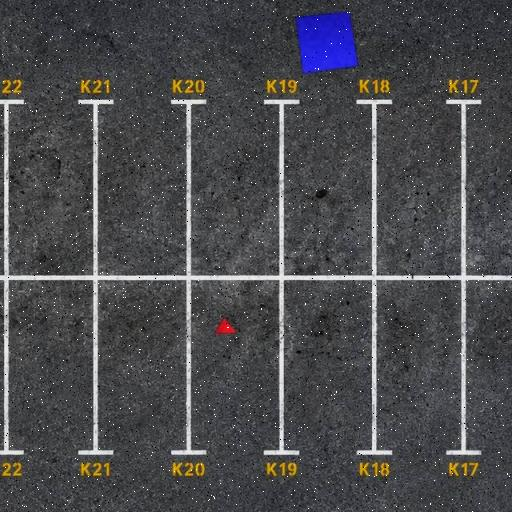BLUE_SQUARE: (296, 12, 358, 74)
